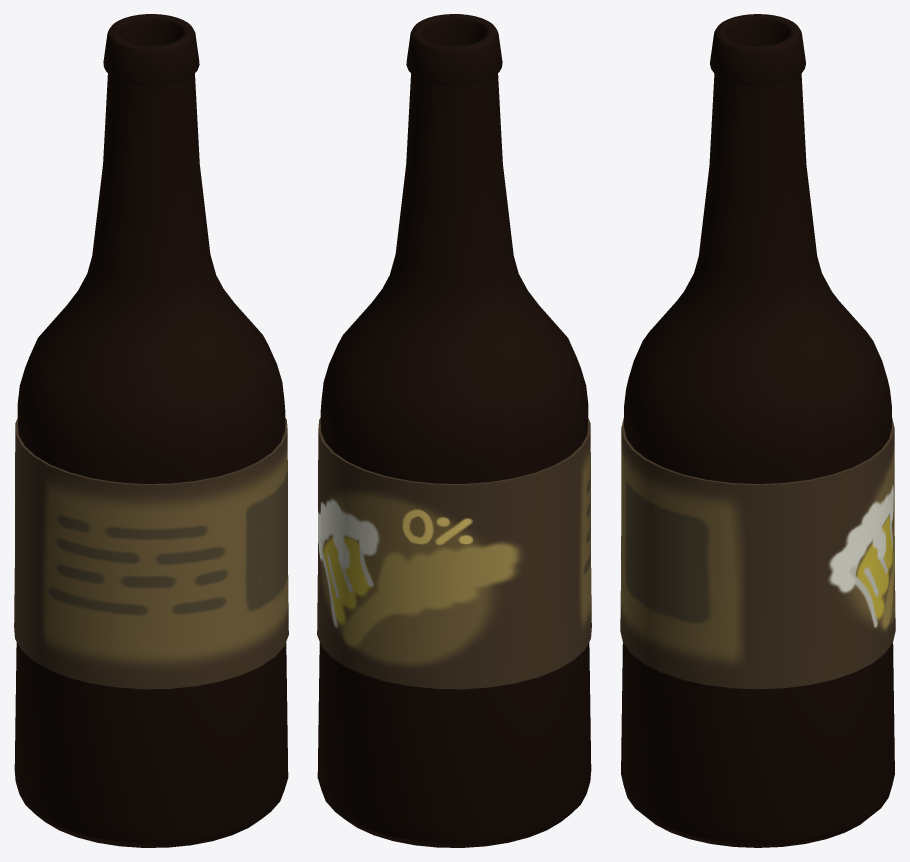
The model's file is beerbottle_1.fbx.
3 renders of one model, left to right at view 1: azimuth 30°, elevation 25°; view 2: azimuth 150°, elevation 25°; view 3: azimuth 270°, elevation 25°, orthographic.
Parts seen in each view (by area): view 1: Beerbottle; view 2: Beerbottle; view 3: Beerbottle.
Boxes of the visible parts, x1,y1,x2,y2 form: Beerbottle: (14, 14, 288, 847); Beerbottle: (317, 14, 591, 847); Beerbottle: (620, 14, 895, 847).
Size of the model in its own units: 40.37 by 124 by 40.37.
